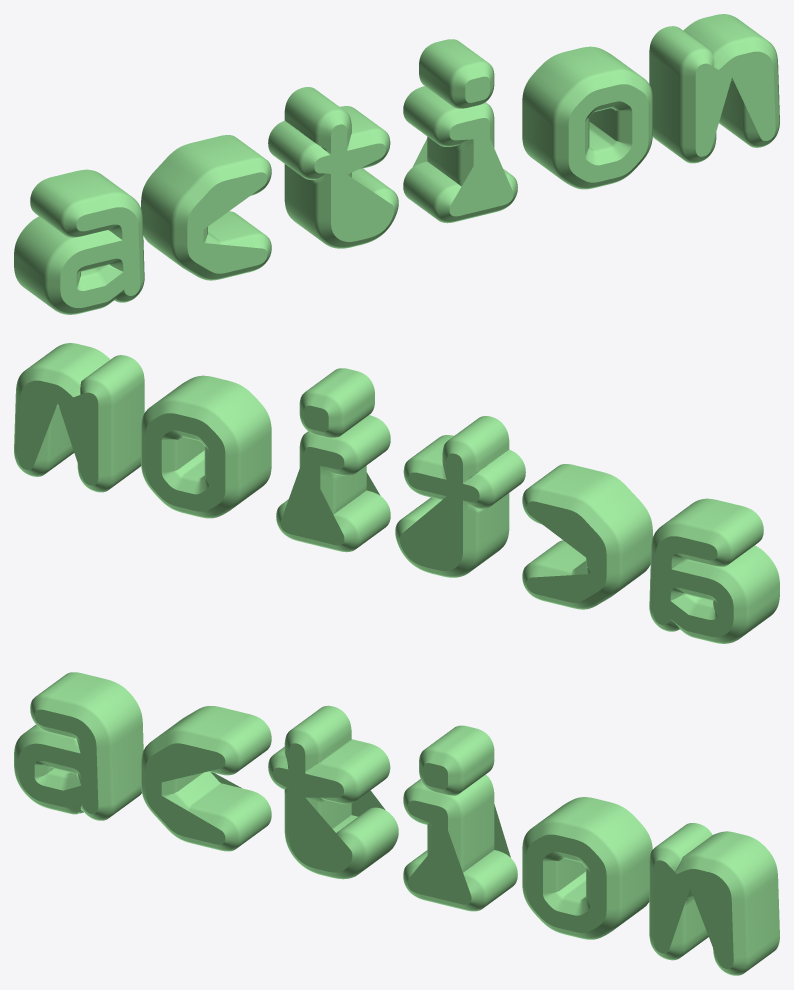
Rendered from action.fbx.
3 renders of one model, top to bottom at view 1: azimuth 30°, elevation 25°; view 2: azimuth 150°, elevation 25°; view 3: azimuth 330°, elevation 25°, orthographic.
Parts seen in each view (by area): view 1: polySurface12; view 2: polySurface12; view 3: polySurface12.
Boxes of the visible parts, x1,y1,x2,y2 form: polySurface12: [14, 14, 779, 314]; polySurface12: [14, 343, 779, 643]; polySurface12: [14, 672, 779, 975].
Bounding box in the file's own units: 3.55 × 0.7148 × 0.35.
